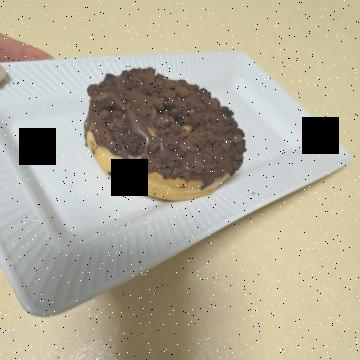doughnut: (58, 105, 212, 296)
